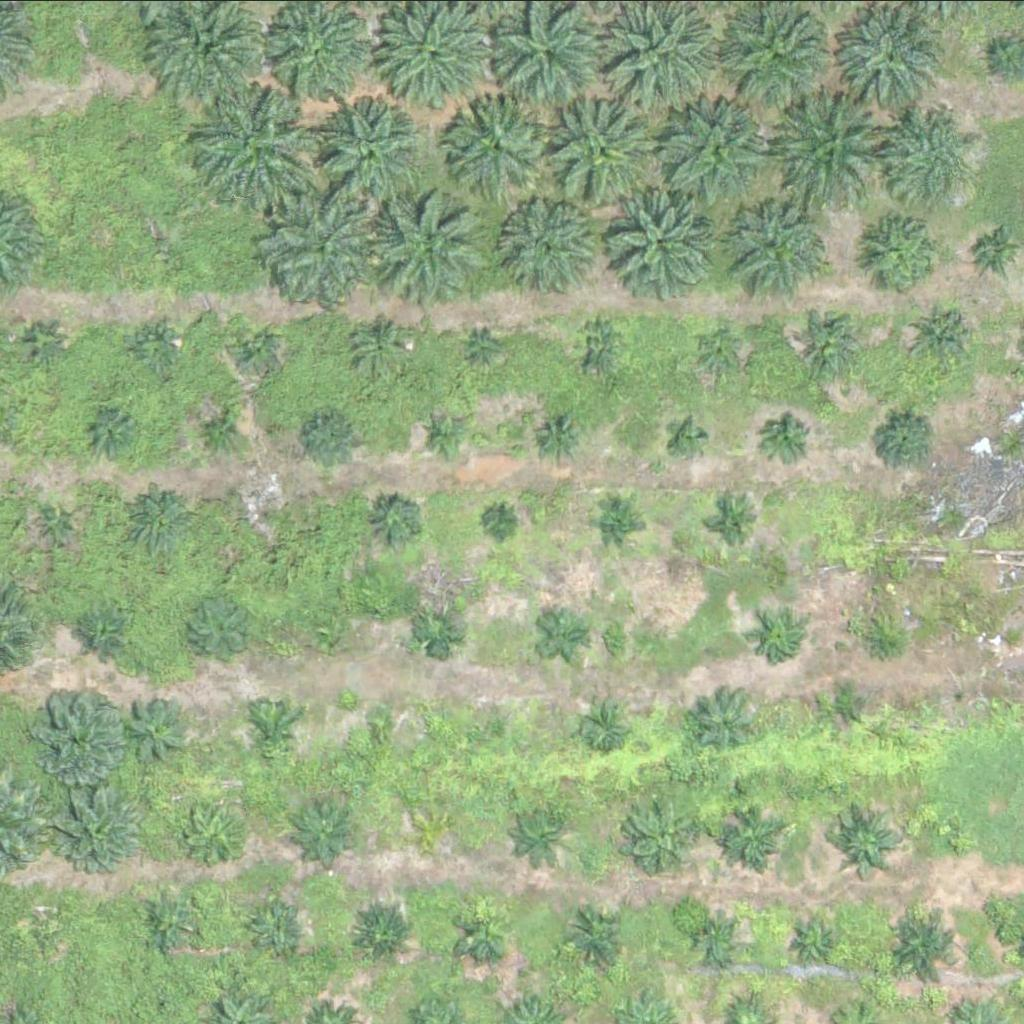Kelapa_Sawit: (194, 79, 320, 204), (836, 3, 949, 116), (780, 90, 894, 202), (664, 94, 778, 206), (547, 91, 661, 203), (267, 191, 380, 303), (373, 182, 486, 294), (317, 101, 418, 201), (445, 95, 546, 195), (26, 682, 127, 782), (266, 2, 366, 102), (611, 190, 711, 290), (737, 202, 837, 302), (860, 213, 948, 300), (507, 198, 595, 285), (59, 782, 147, 869), (887, 113, 975, 200), (880, 901, 968, 988), (831, 805, 907, 880), (182, 593, 257, 668), (912, 302, 975, 365), (695, 688, 758, 751), (871, 407, 934, 470), (294, 800, 357, 863), (349, 901, 412, 964), (139, 891, 202, 954), (299, 407, 362, 470), (802, 309, 865, 371), (566, 906, 629, 968), (723, 806, 786, 868), (633, 803, 695, 866), (511, 798, 574, 860), (130, 490, 193, 552), (121, 699, 184, 761), (184, 801, 247, 863), (708, 498, 759, 548), (762, 414, 813, 464), (356, 321, 407, 371), (244, 705, 295, 755), (369, 498, 420, 548), (191, 405, 242, 455), (821, 680, 872, 730), (856, 618, 907, 668), (574, 316, 624, 366), (591, 496, 641, 546), (536, 608, 586, 658), (458, 908, 508, 958), (579, 701, 629, 751), (754, 613, 804, 663), (251, 906, 301, 956), (82, 407, 132, 457), (416, 606, 466, 656), (229, 321, 279, 371), (19, 318, 69, 368), (130, 322, 180, 372), (34, 502, 84, 552), (419, 410, 469, 460), (693, 327, 743, 377), (533, 411, 583, 461), (789, 920, 840, 969), (312, 610, 350, 648), (668, 419, 706, 457), (88, 612, 125, 650), (26, 904, 63, 942), (698, 922, 736, 959), (245, 500, 270, 525), (474, 334, 499, 359), (488, 511, 513, 536), (481, 712, 506, 737), (365, 712, 390, 737), (419, 817, 444, 842), (946, 827, 971, 852), (156, 990, 181, 1015)
